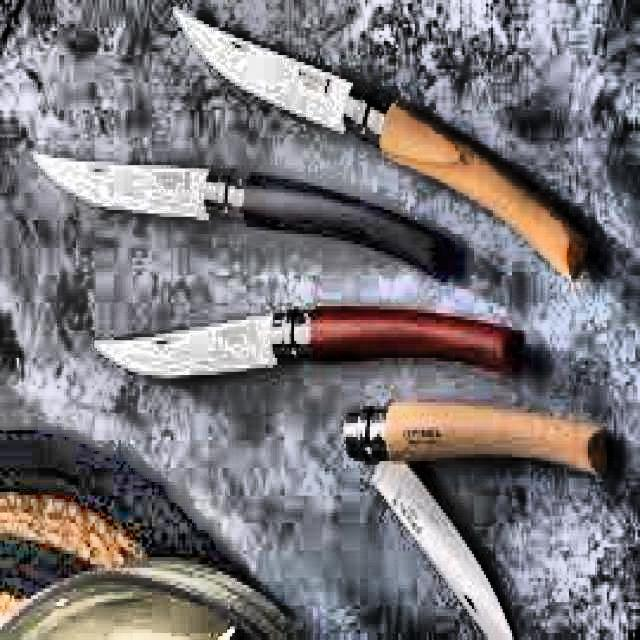knife: (169, 0, 610, 292), (31, 140, 488, 294), (361, 453, 560, 640), (94, 309, 538, 392)
